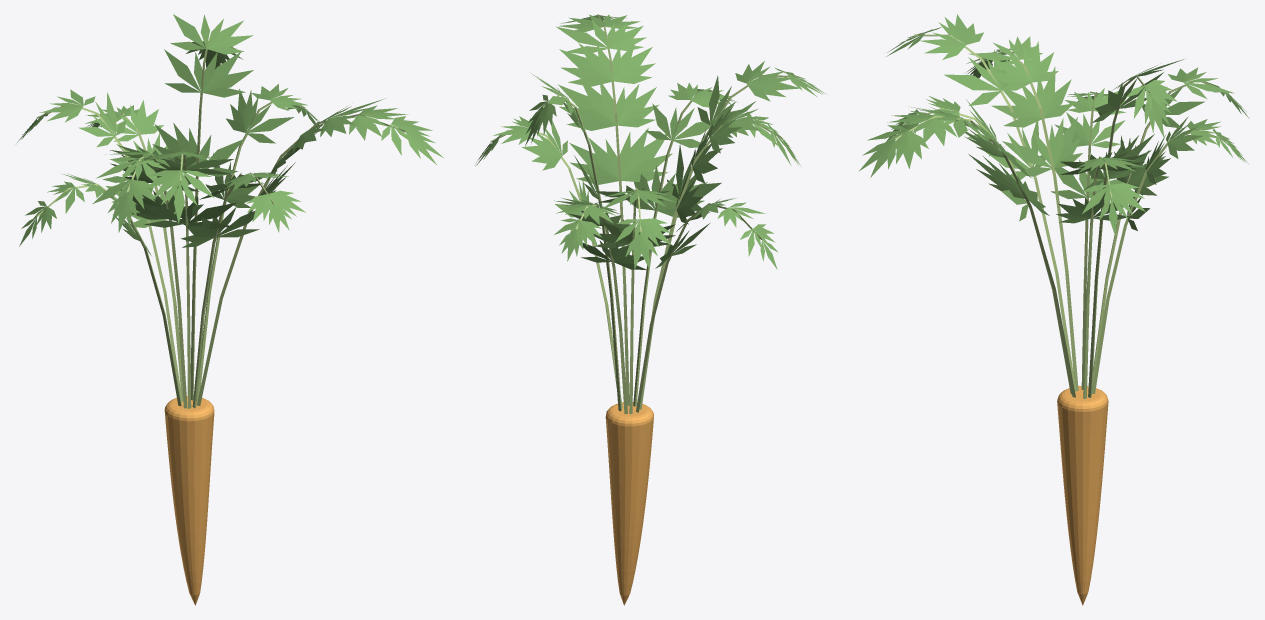
The model's file is carrot_v21.glb.
3 renders of one model, left to right at view 1: azimuth 30°, elevation 25°; view 2: azimuth 150°, elevation 25°; view 3: azimuth 270°, elevation 25°, orthographic. The views are drawn at different scales.
Visible parts, largest first — view 1: leaves, petioles, root; view 2: leaves, petioles, root; view 3: leaves, petioles, root.
Boxes of the visible parts, left/top/right/bottom form: leaves: left=17, top=14, right=443, bottom=255; petioles: left=36, top=41, right=405, bottom=408; root: left=164, top=396, right=214, bottom=605; leaves: left=475, top=14, right=826, bottom=269; petioles: left=490, top=14, right=798, bottom=414; root: left=605, top=402, right=653, bottom=605; leaves: left=859, top=14, right=1249, bottom=235; petioles: left=895, top=34, right=1227, bottom=399; root: left=1057, top=386, right=1108, bottom=605.
Bounding box in the file's own units: 0.2608 × 0.4292 × 0.2695.
